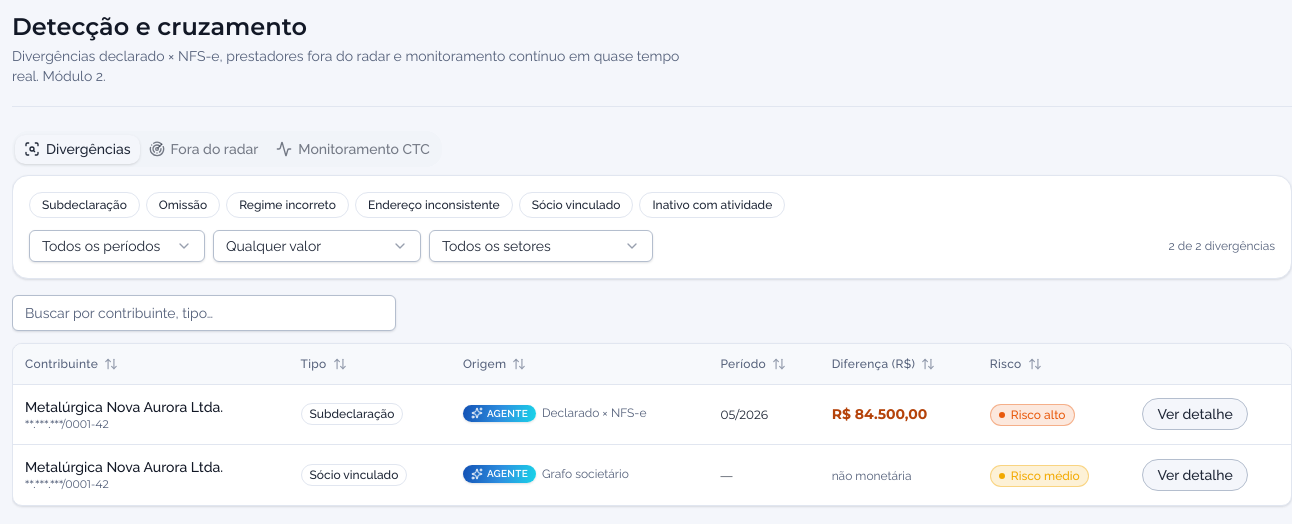
Test case: CrossingPage (T05) › chips de tipo filtram a lista (badge do tipo de inconsistência)
The width and height of the screenshot is (1292, 524).
Click the button "Sócio vinculado" at (576, 205), box 519,192 -> 634,218
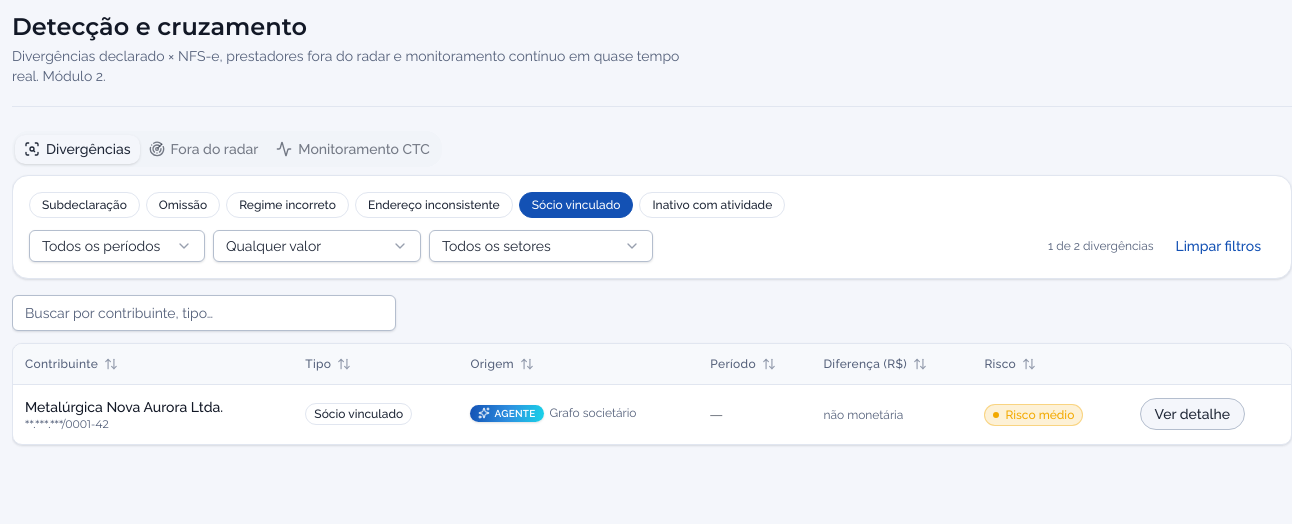
Check: the text "1 de 2 divergências" is shown, box 1048,238 -> 1154,254
Check: the text "R$ 84.500,00" is gone
